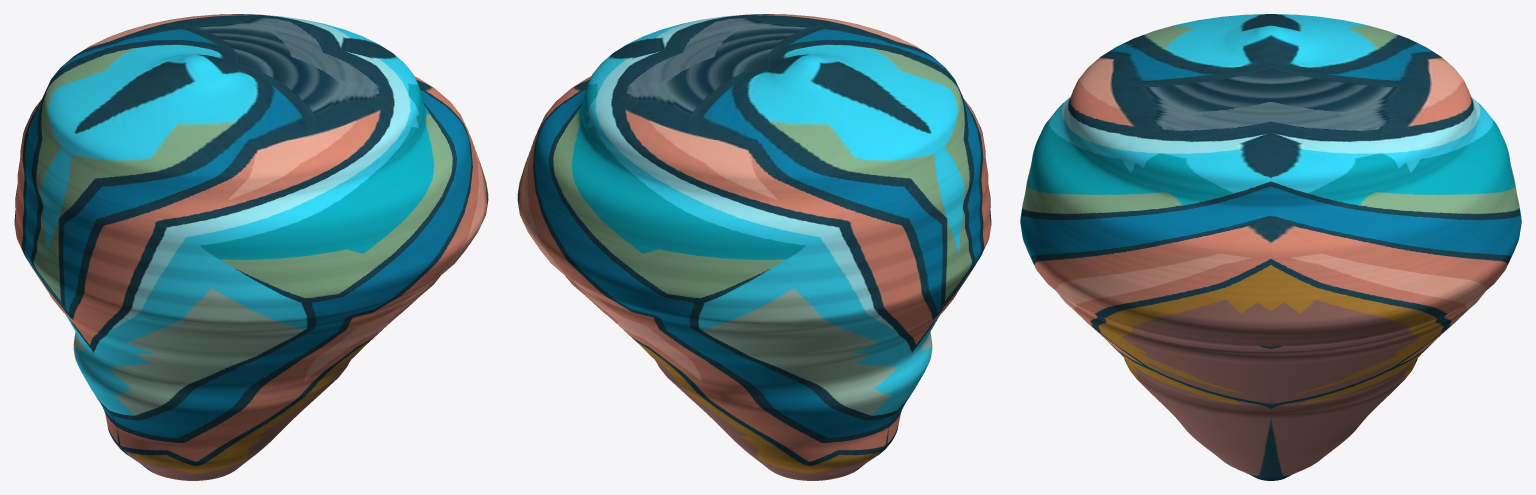
File: turquoise_crystal.glb
3 renders of one model, left to right at view 1: azimuth 30°, elevation 25°; view 2: azimuth 150°, elevation 25°; view 3: azimuth 270°, elevation 25°, orthographic. The views are drawn at different scales.
Visible parts, largest first — view 1: turquoise_crystal; view 2: turquoise_crystal; view 3: turquoise_crystal.
Part boxes in pixels (left/top/right/bottom): turquoise_crystal: left=14, top=14, right=488, bottom=480; turquoise_crystal: left=517, top=14, right=991, bottom=480; turquoise_crystal: left=1020, top=14, right=1521, bottom=480.
Bounding box in the file's own units: 0.9974 × 0.9523 × 0.9935.
Materials: 1 (1 with a texture image).
